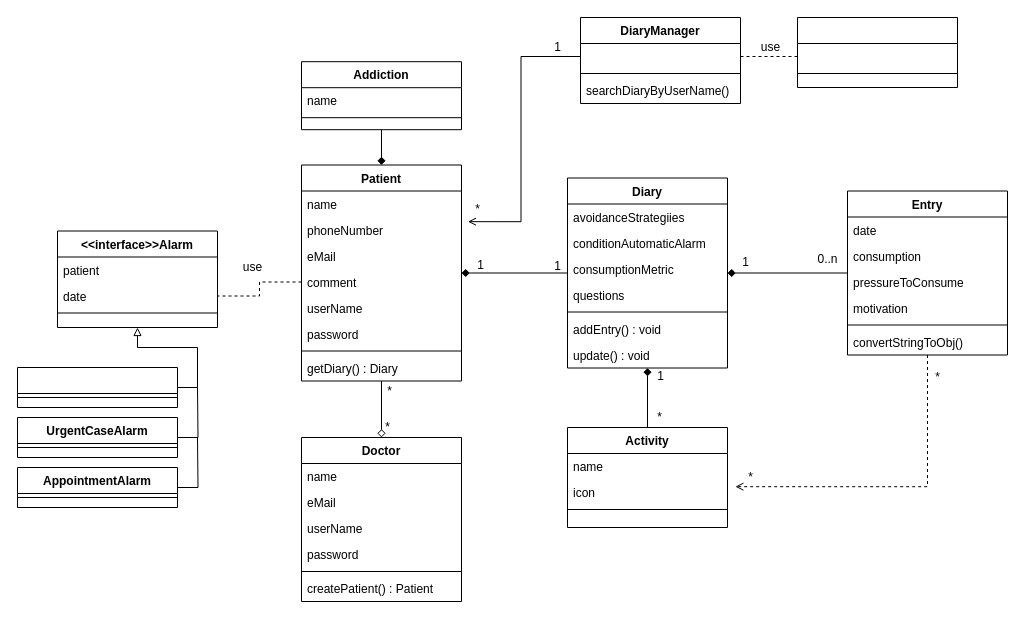
The diagram is 1025 pixels wide and 622 high, and some of its shapes have lost their labels. Each missing label, with the centre of its shape:
"EmergencyAlarm" goes at point (97, 387).
"FileManager" goes at point (877, 52).
